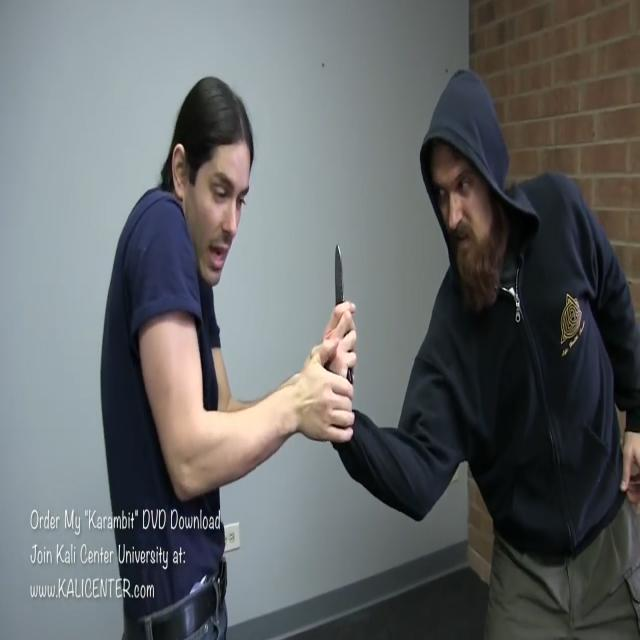knife: (332, 243, 346, 307)
